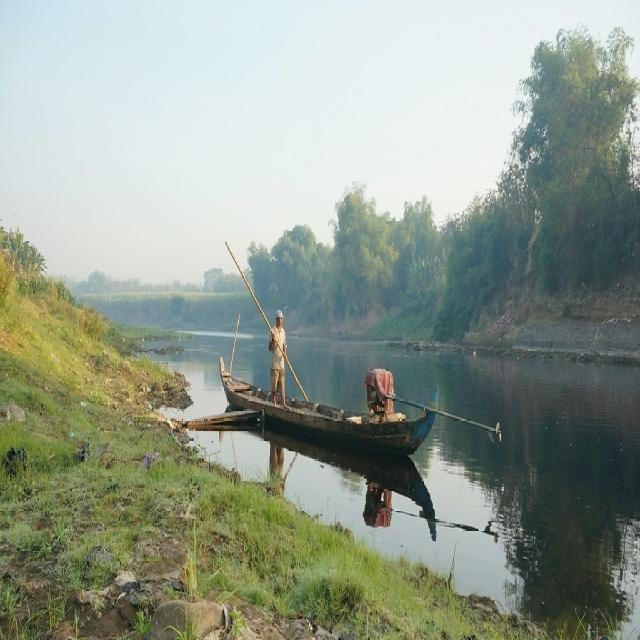boat: (214, 356, 445, 468)
